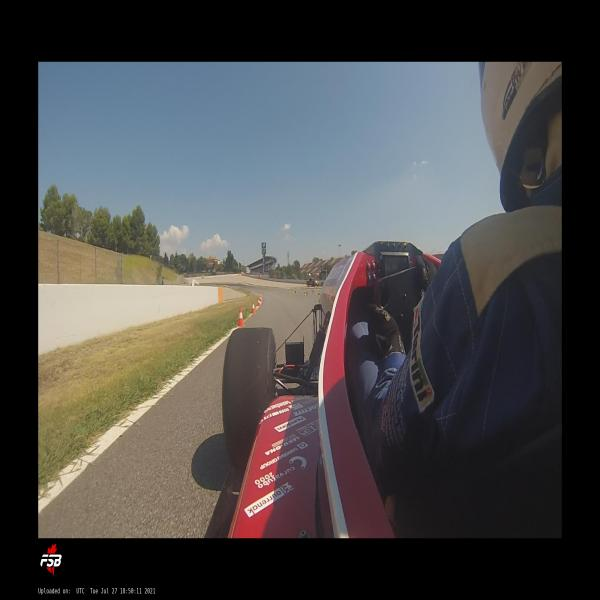orange_cone: (236, 308, 244, 328), (251, 301, 256, 314), (257, 298, 260, 307), (259, 294, 262, 301)
yellow_cone: (318, 292, 320, 297)
